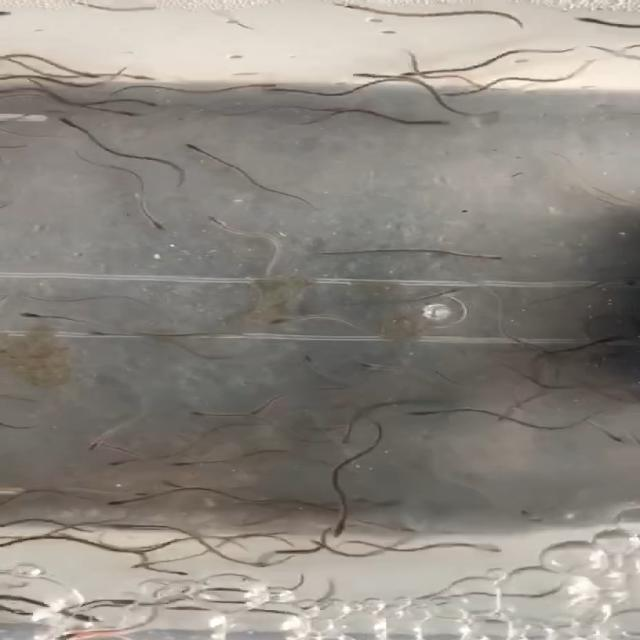active_glass_eel: (109, 192, 176, 232), (170, 209, 248, 234), (500, 67, 569, 94), (238, 394, 312, 417), (48, 605, 118, 629), (585, 185, 640, 215), (407, 55, 456, 88), (392, 112, 458, 135), (110, 104, 164, 132), (421, 280, 474, 308), (473, 239, 512, 275), (2, 537, 62, 560), (32, 112, 86, 137), (414, 404, 467, 428), (347, 359, 402, 382), (548, 13, 608, 34), (311, 430, 374, 450), (192, 398, 242, 423), (575, 331, 631, 353), (0, 599, 48, 624), (14, 494, 61, 519), (175, 129, 212, 159), (5, 69, 66, 87), (113, 61, 161, 83), (13, 301, 52, 328), (8, 416, 55, 438), (579, 423, 624, 445), (124, 95, 197, 108), (265, 311, 308, 332), (96, 454, 136, 476), (323, 511, 352, 541), (351, 68, 397, 86), (567, 381, 605, 402), (77, 326, 121, 344), (88, 432, 131, 450), (316, 2, 374, 15), (106, 492, 152, 508), (163, 560, 208, 576), (20, 53, 70, 67), (240, 77, 286, 92), (117, 305, 174, 317), (248, 555, 286, 573), (148, 478, 190, 494), (139, 526, 172, 546), (263, 84, 301, 101), (434, 90, 476, 105), (256, 492, 297, 507), (32, 90, 68, 107), (145, 562, 188, 576), (468, 540, 508, 554), (164, 458, 199, 473)
